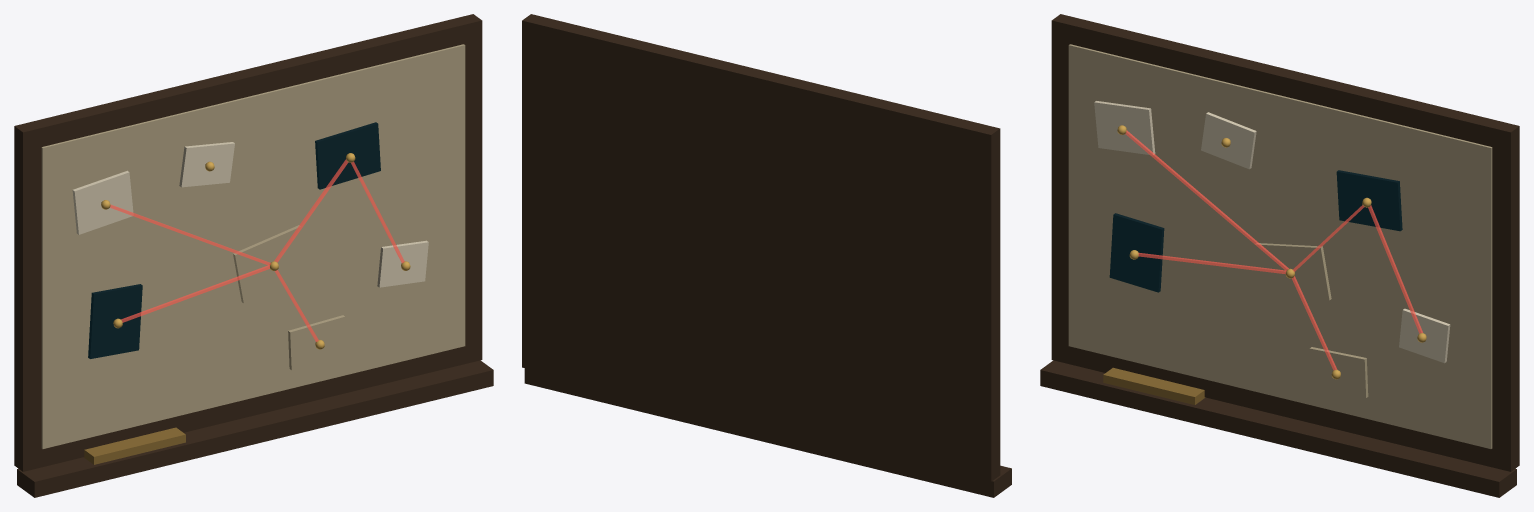
The model's file is hp_room_desire_clue_board.glb.
3 views of the same model, side by side, from view 1: azimuth 30°, elevation 25°; view 2: azimuth 150°, elevation 25°; view 3: azimuth 330°, elevation 25° (orthographic). The views are drawn at different scales.
Parts seen in each view (by area): view 1: cork, frame, ledge, note_4, note_3, note_2, note_0, note_6, note_1, note_5, chalk_tray, string_3 (+2 smaller); view 2: frame, ledge; view 3: cork, frame, ledge, note_4, note_3, note_2, note_0, note_6, note_1, note_5, chalk_tray, string_0 (+2 smaller).
Boxes of the visible parts, bbox=[...] form: cork: bbox=[41, 44, 465, 448]; frame: bbox=[14, 14, 482, 471]; ledge: bbox=[17, 360, 493, 497]; note_4: bbox=[233, 225, 309, 303]; note_3: bbox=[88, 284, 142, 358]; note_2: bbox=[315, 122, 380, 189]; note_0: bbox=[72, 170, 133, 234]; note_6: bbox=[288, 315, 346, 370]; note_1: bbox=[179, 142, 234, 187]; note_5: bbox=[377, 240, 428, 287]; chalk_tray: bbox=[84, 427, 185, 464]; string_3: bbox=[121, 265, 269, 322]; frame: bbox=[522, 14, 1000, 481]; ledge: bbox=[524, 368, 1011, 497]; cork: bbox=[1068, 44, 1492, 448]; frame: bbox=[1051, 14, 1519, 471]; ledge: bbox=[1040, 360, 1516, 497]; note_4: bbox=[1254, 243, 1331, 300]; note_3: bbox=[1109, 213, 1164, 292]; note_2: bbox=[1336, 170, 1402, 231]; note_0: bbox=[1094, 101, 1155, 155]; note_6: bbox=[1309, 347, 1368, 398]; note_1: bbox=[1201, 112, 1256, 169]; note_5: bbox=[1399, 308, 1450, 363]; chalk_tray: bbox=[1103, 367, 1205, 404]; string_0: bbox=[1125, 130, 1288, 270].
Size of the model in its own units: 1.5 by 1.11 by 0.115.
